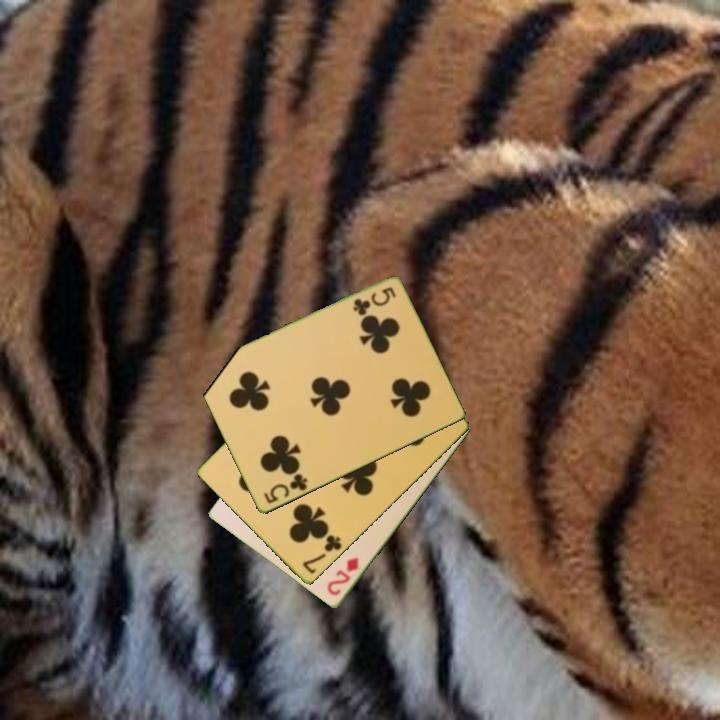2d: (324, 554, 362, 599)
5c: (260, 470, 310, 507), (349, 284, 399, 318)
7c: (299, 531, 345, 577)
